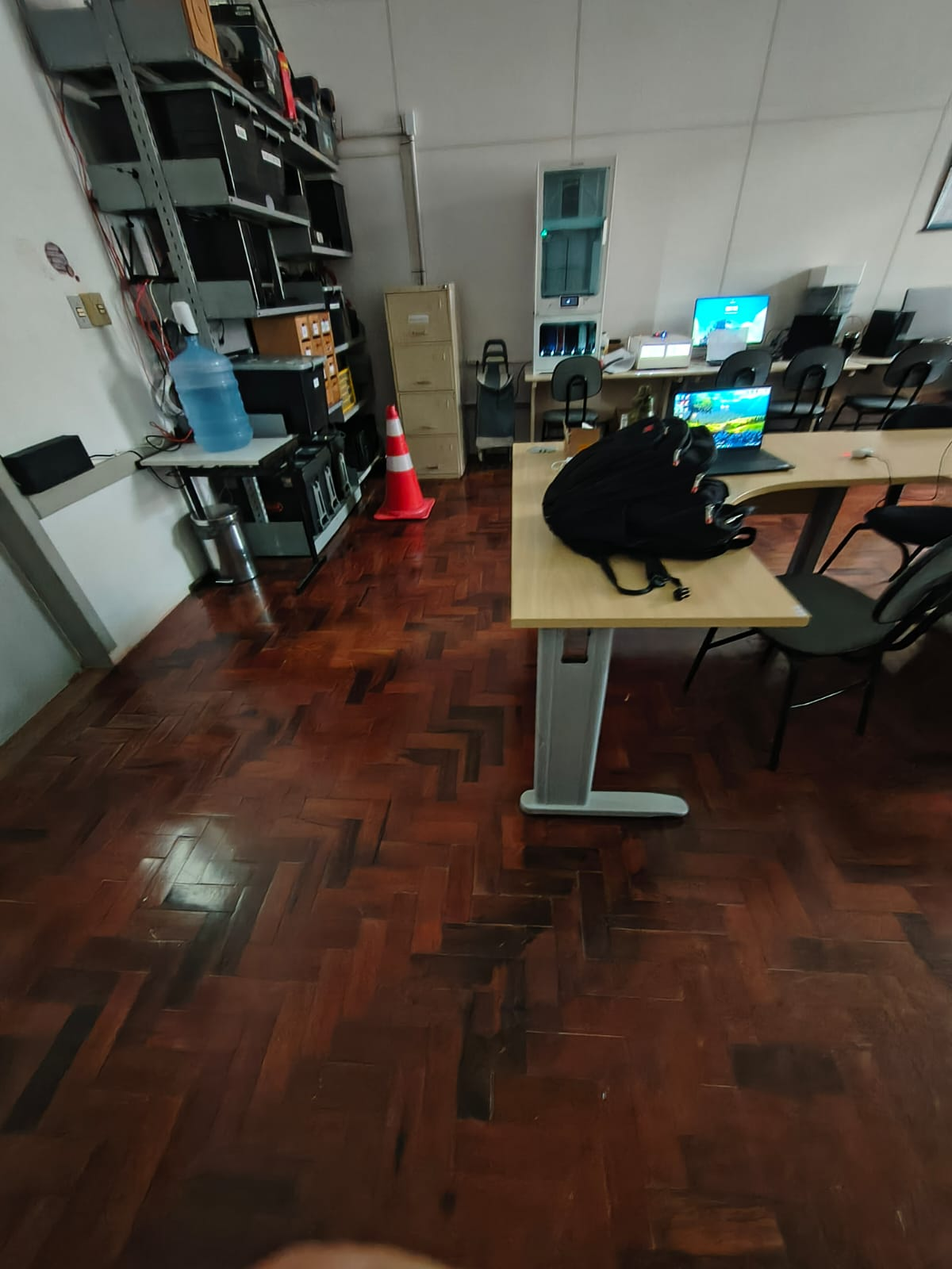cone: (376, 394, 438, 523)
